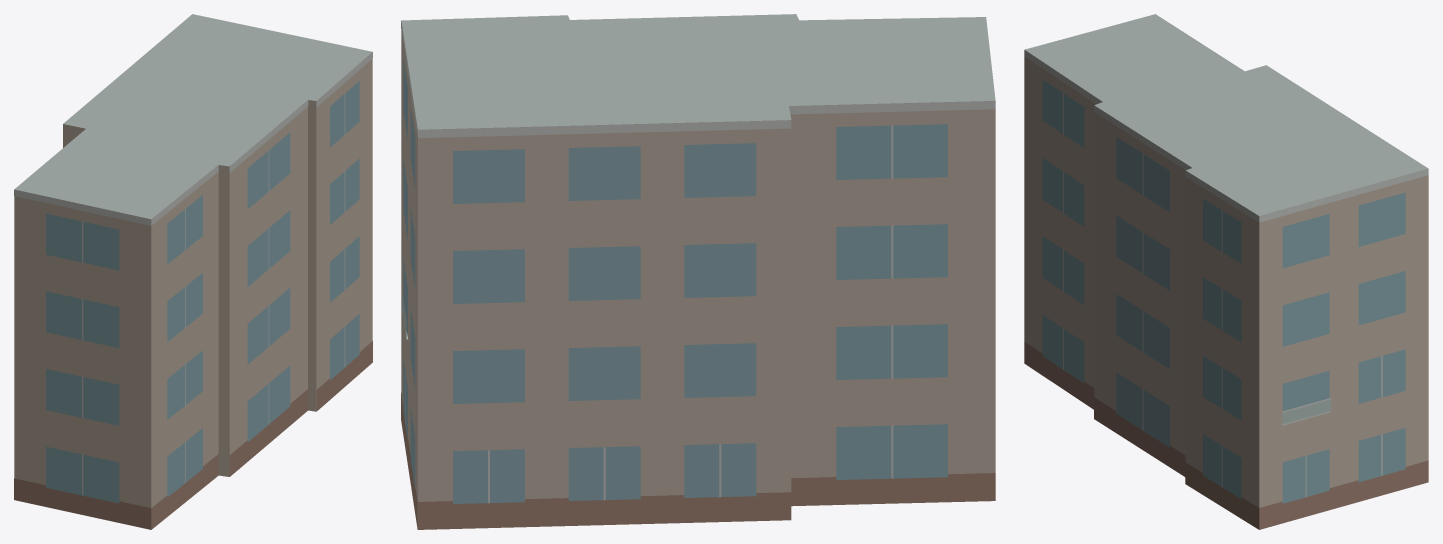
The model's file is survey-upis-32746540.glb.
3 views of the same model, side by side, from view 1: azimuth 30°, elevation 25°; view 2: azimuth 150°, elevation 25°; view 3: azimuth 270°, elevation 25° (orthographic). The views are drawn at different scales.
Parts seen in each view (by area): view 1: survey-upis-32746540.tmp; view 2: survey-upis-32746540.tmp; view 3: survey-upis-32746540.tmp.
Part boxes in pixels (bbox=[...]): survey-upis-32746540.tmp: bbox=[14, 14, 372, 529]; survey-upis-32746540.tmp: bbox=[401, 14, 995, 529]; survey-upis-32746540.tmp: bbox=[1024, 14, 1428, 529].
Size of the model in its own units: 16.03 by 11.6 by 13.55.
